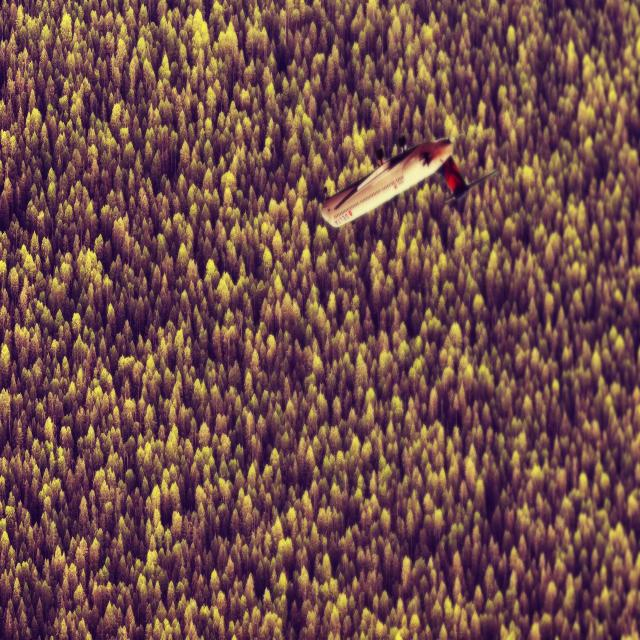airplane: (320, 133, 498, 230)
